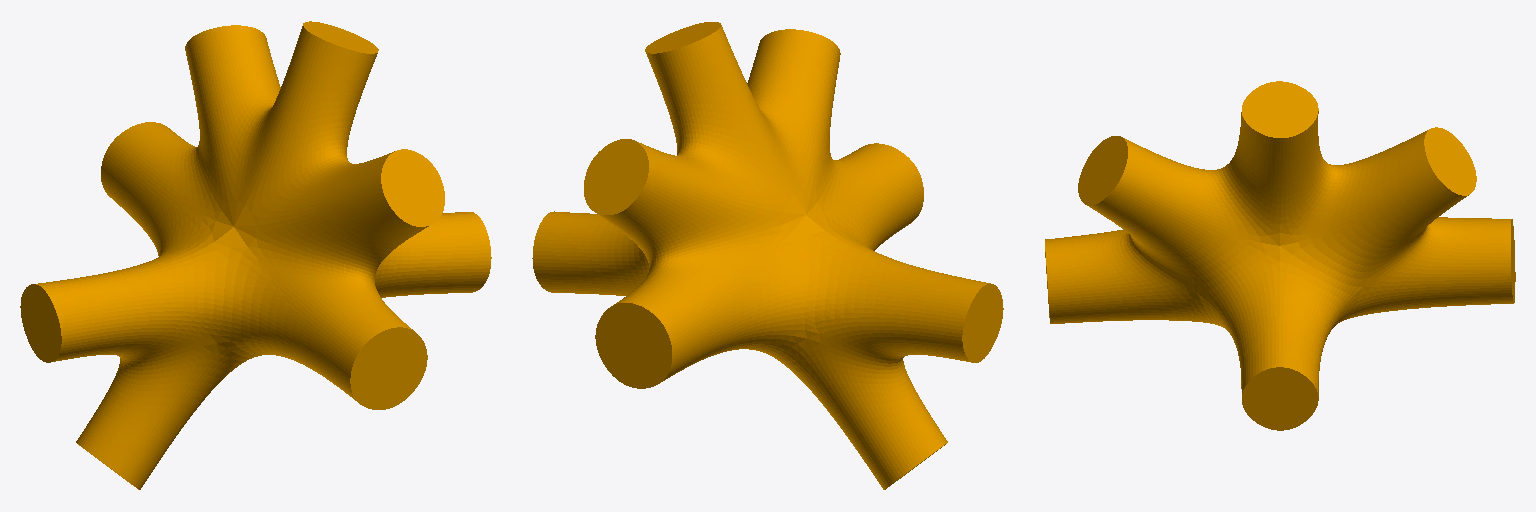
robot.urdf — object:
<robot name="object">
  <link name="object">
    <visual>
      <origin xyz="0 0 0"/>
      <geometry>
        <mesh filename="visual.obj" scale="1 1 1"/>
      </geometry>
    </visual>
    <collision>
      <origin xyz="0 0 0"/>
      <geometry>
        <mesh filename="visual.obj" scale="1 1 1"/>
      </geometry>
    </collision>
    <inertial>
      <mass value="0.05"/>
      <inertia ixx="0.00010010009798404085" iyy="8.616217118027347e-05" izz="0.00011314906432675249" ixy="-1.1607734720478345e-07" ixz="-1.7867630804214426e-05" iyz="-1.962127868064328e-06"/>
    </inertial>
  </link>
</robot>

--- Facts derived from the render (not from the file) ---
Views: 3 orthographic renders of the robot side by side, from view 1: azimuth 30°, elevation 25°; view 2: azimuth 150°, elevation 25°; view 3: azimuth 270°, elevation 25°.
Model object with 1 links and 0 joints (none), rooted at object, posed all joints at 0.
Links seen in each view (by area): view 1: object; view 2: object; view 3: object.
Link boxes in pixels (box(x1,y1,x2,y2)): object: box(20, 21, 491, 489); object: box(532, 22, 1003, 489); object: box(1045, 81, 1515, 430).
Size in the robot's own frame: 0.1847 by 0.1849 by 0.1669 metres.
1 mesh visuals loaded from 1 distinct referenced files (1 OBJ).
